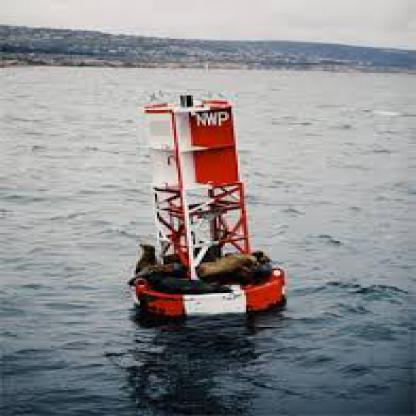buoy: (119, 86, 293, 317)
